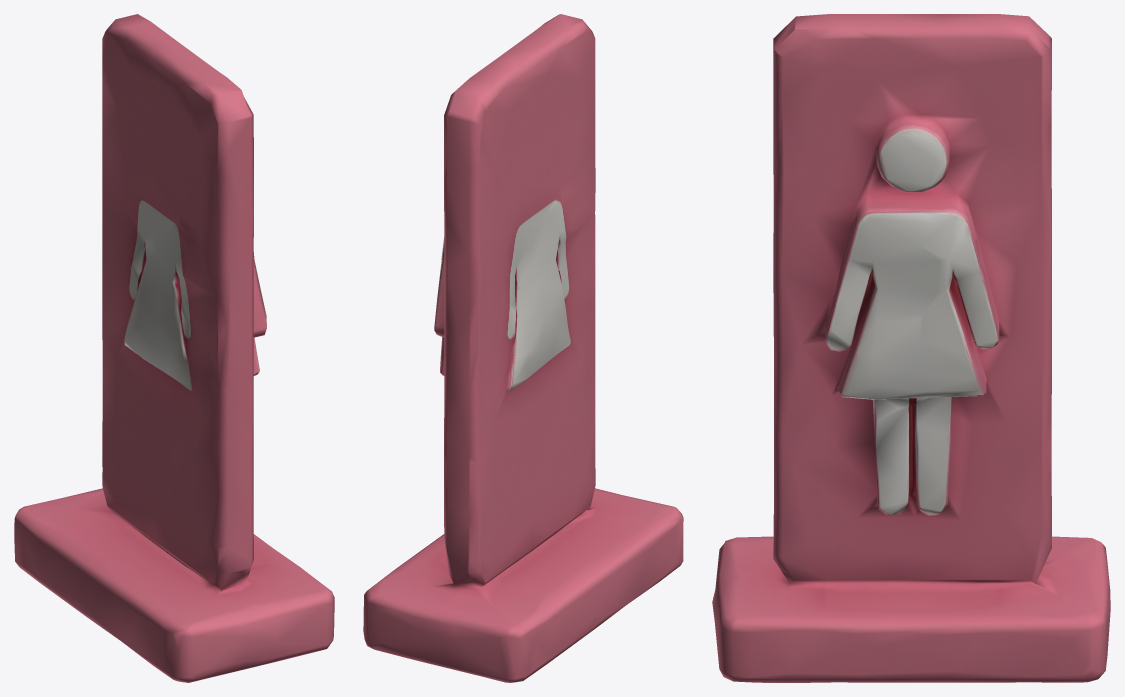
Rendered from sign-women.glb.
The picture shows the model from 3 angles, left to right: view 1: azimuth 30°, elevation 25°; view 2: azimuth 150°, elevation 25°; view 3: azimuth 270°, elevation 25°; orthographic projection. The views are drawn at different scales.
Visible parts, largest first — view 1: tripo_node_c2026b78-7065-4de1-ab9b-a476ea6038f5; view 2: tripo_node_c2026b78-7065-4de1-ab9b-a476ea6038f5; view 3: tripo_node_c2026b78-7065-4de1-ab9b-a476ea6038f5.
Boxes of the visible parts, x1,y1,x2,y2 form: tripo_node_c2026b78-7065-4de1-ab9b-a476ea6038f5: (14, 14, 334, 682); tripo_node_c2026b78-7065-4de1-ab9b-a476ea6038f5: (363, 14, 683, 682); tripo_node_c2026b78-7065-4de1-ab9b-a476ea6038f5: (712, 14, 1110, 682).
Size of the model in its own units: 0.31 by 1 by 0.5773.
Materials: 1 (1 with a texture image).
